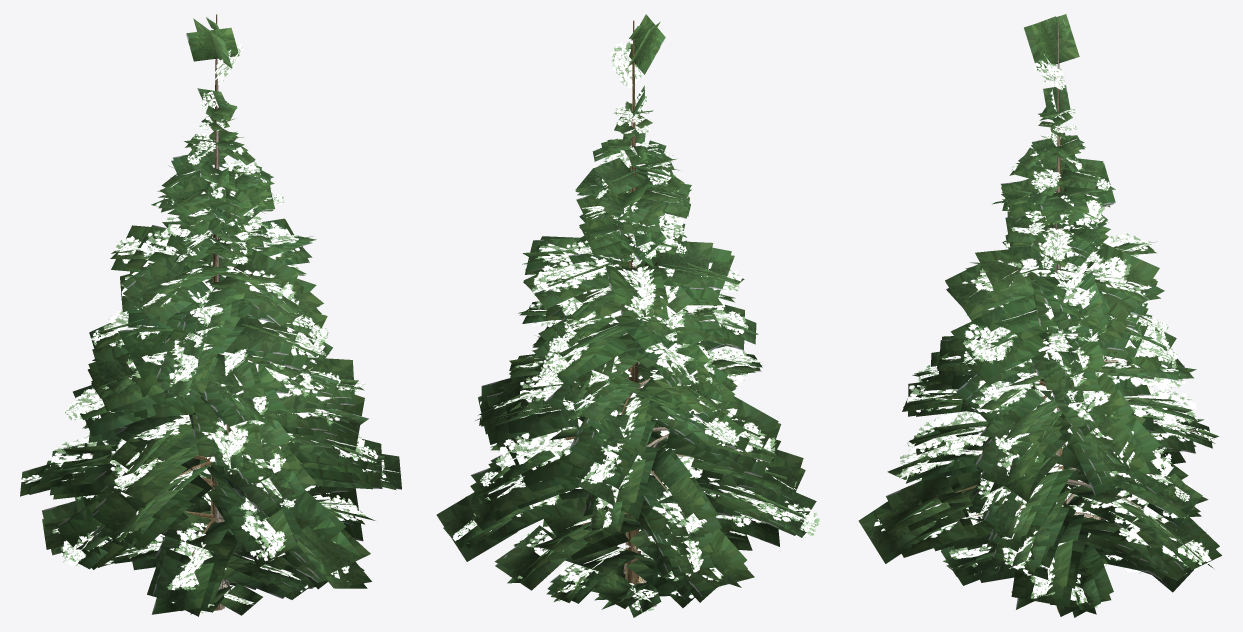
Rendered from mm7_deco_tree33.glb.
3 views of the same model, side by side, from view 1: azimuth 30°, elevation 25°; view 2: azimuth 150°, elevation 25°; view 3: azimuth 270°, elevation 25° (orthographic). The views are drawn at different scales.
Visible parts, largest first — view 1: Tree; view 2: Tree; view 3: Tree.
Part boxes in pixels (x1,y1,x2,y2): Tree: [19, 14, 401, 616]; Tree: [436, 14, 819, 617]; Tree: [858, 14, 1221, 617].
Bounding box in the file's own units: 3.88 × 6.44 × 3.7.
Materials: 3 (3 with a texture image).
